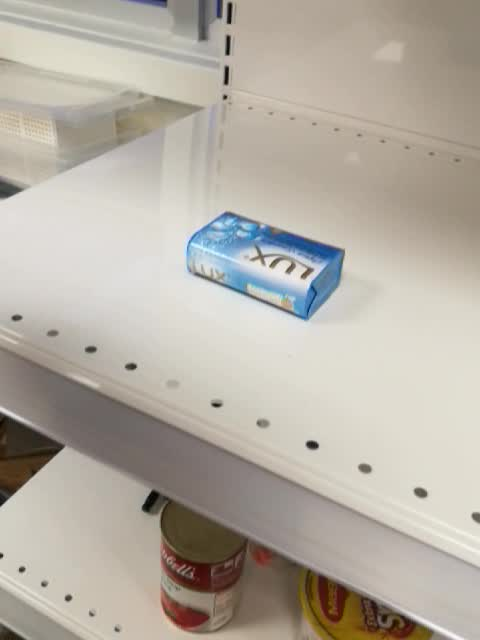soap: (185, 211, 347, 322)
